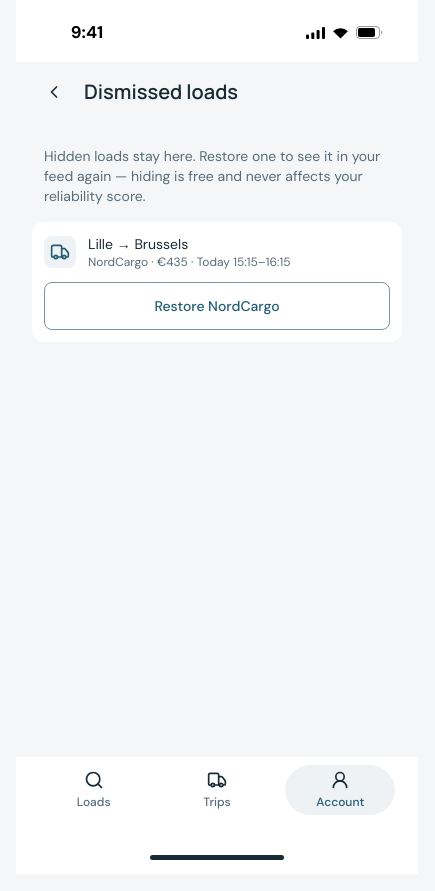
Test case: DismissedLoads › keeps failed restore and Undo retryable
This screenshot has width=435, height=891.
Click the button "Restore NordCargo" at (217, 306), box [44,282,390,330]
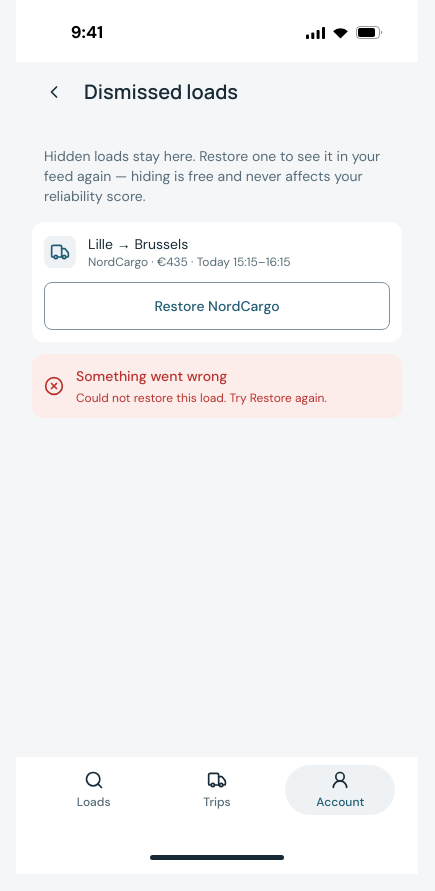
Expected: the text "Could not restore this load. Try Restore again." is shown, [76,390,327,406]
Click the button "Restore NordCargo" at (217, 306), box [44,282,390,330]
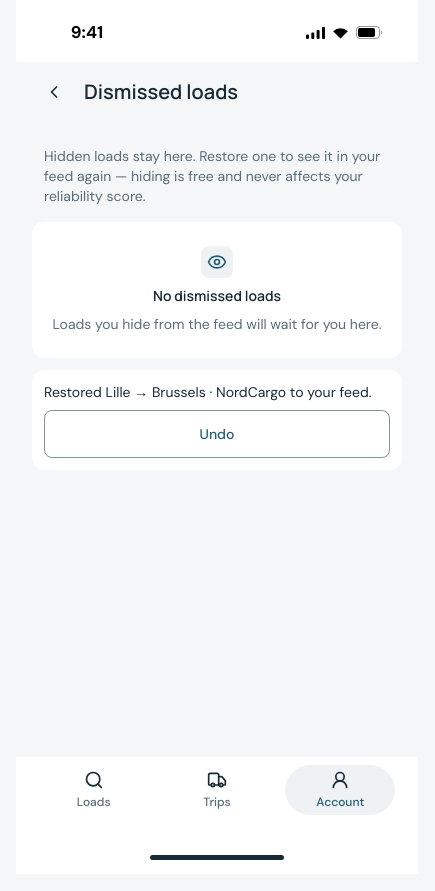
Click the button "Undo" at (217, 434), box [44,410,390,458]
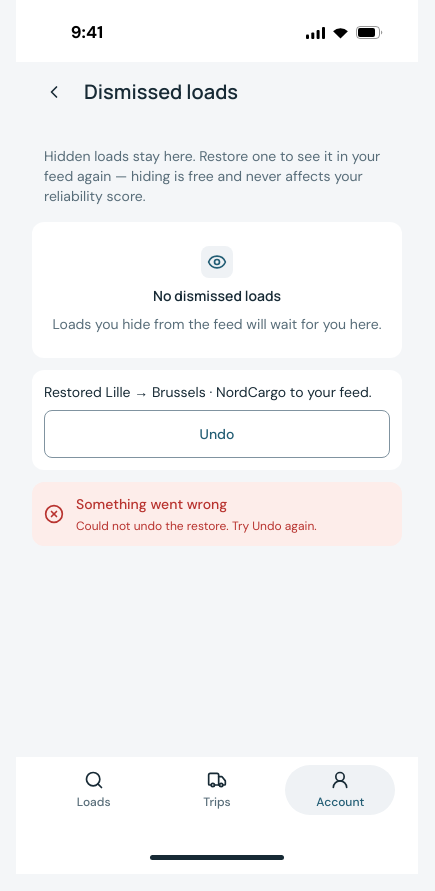
Expected: the text "Could not undo the restore. Try Undo again." is shown, [76,518,317,534]
Click the button "Undo" at (217, 434), box [44,410,390,458]
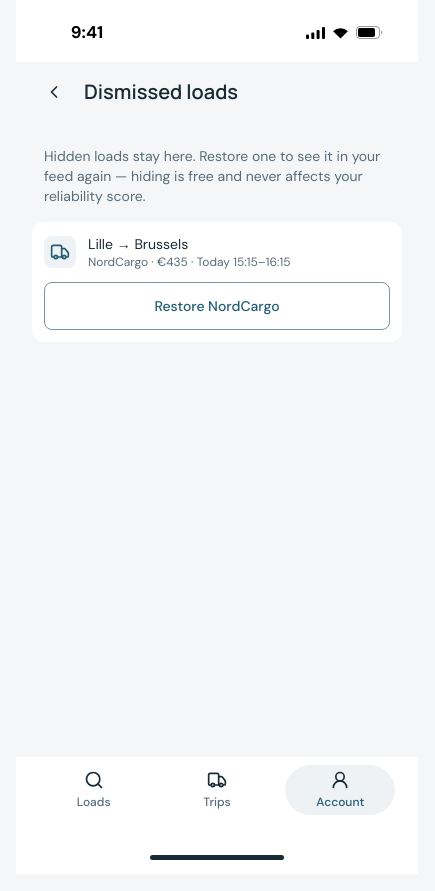
Expected: the button "Restore NordCargo" is shown, [44,282,390,330]
